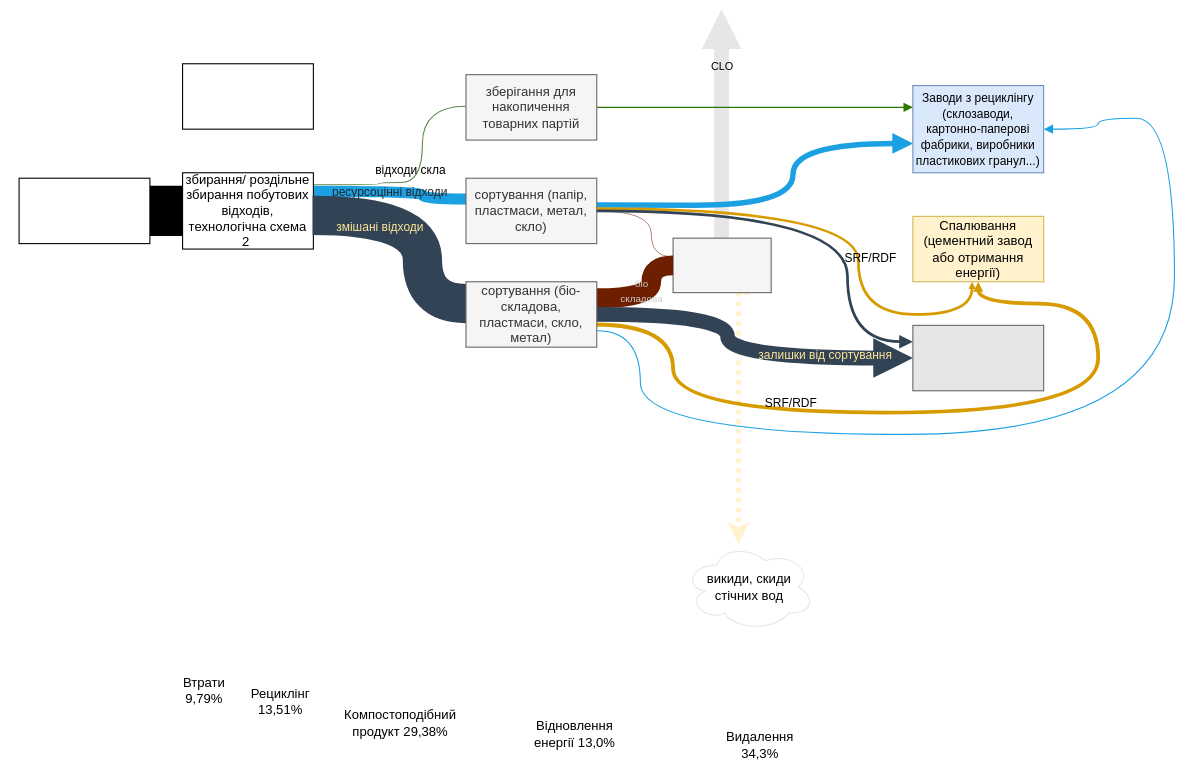
Some shapes in this 1194 by 780 pixel diagram are drawn without their labels. Here are the shapes that lost their labels. From the top down, the centre of each, then its label:
the point at 247,96: Пункти роздільного збирання
the point at 84,210: Утворення побутових відходів
the point at 721,265: Стабілізація
the point at 978,357: Полігон
